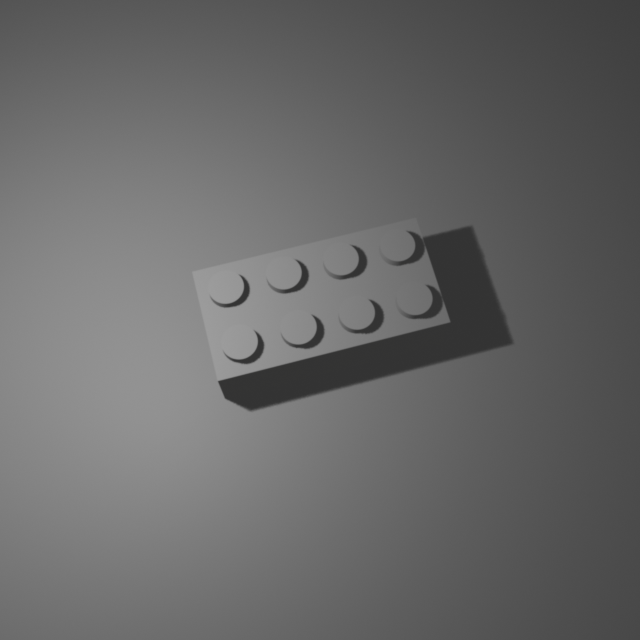lego_2x4: (191, 213, 452, 399)
